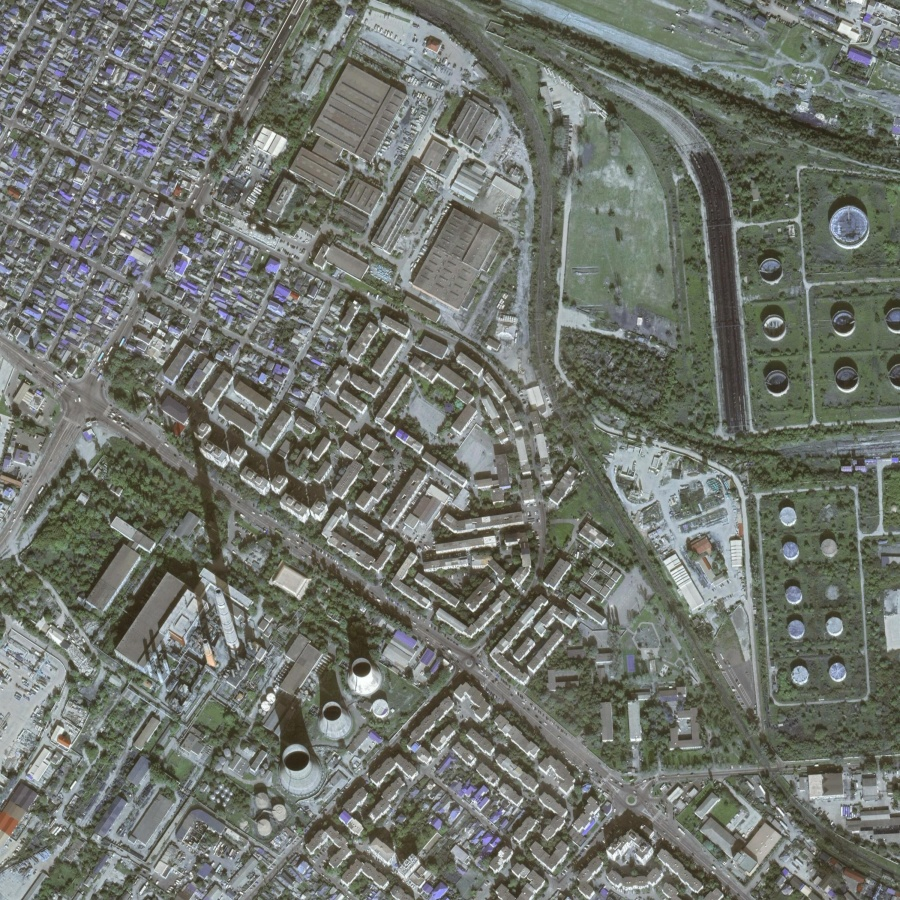PowerPlant: (122, 479, 408, 823)
